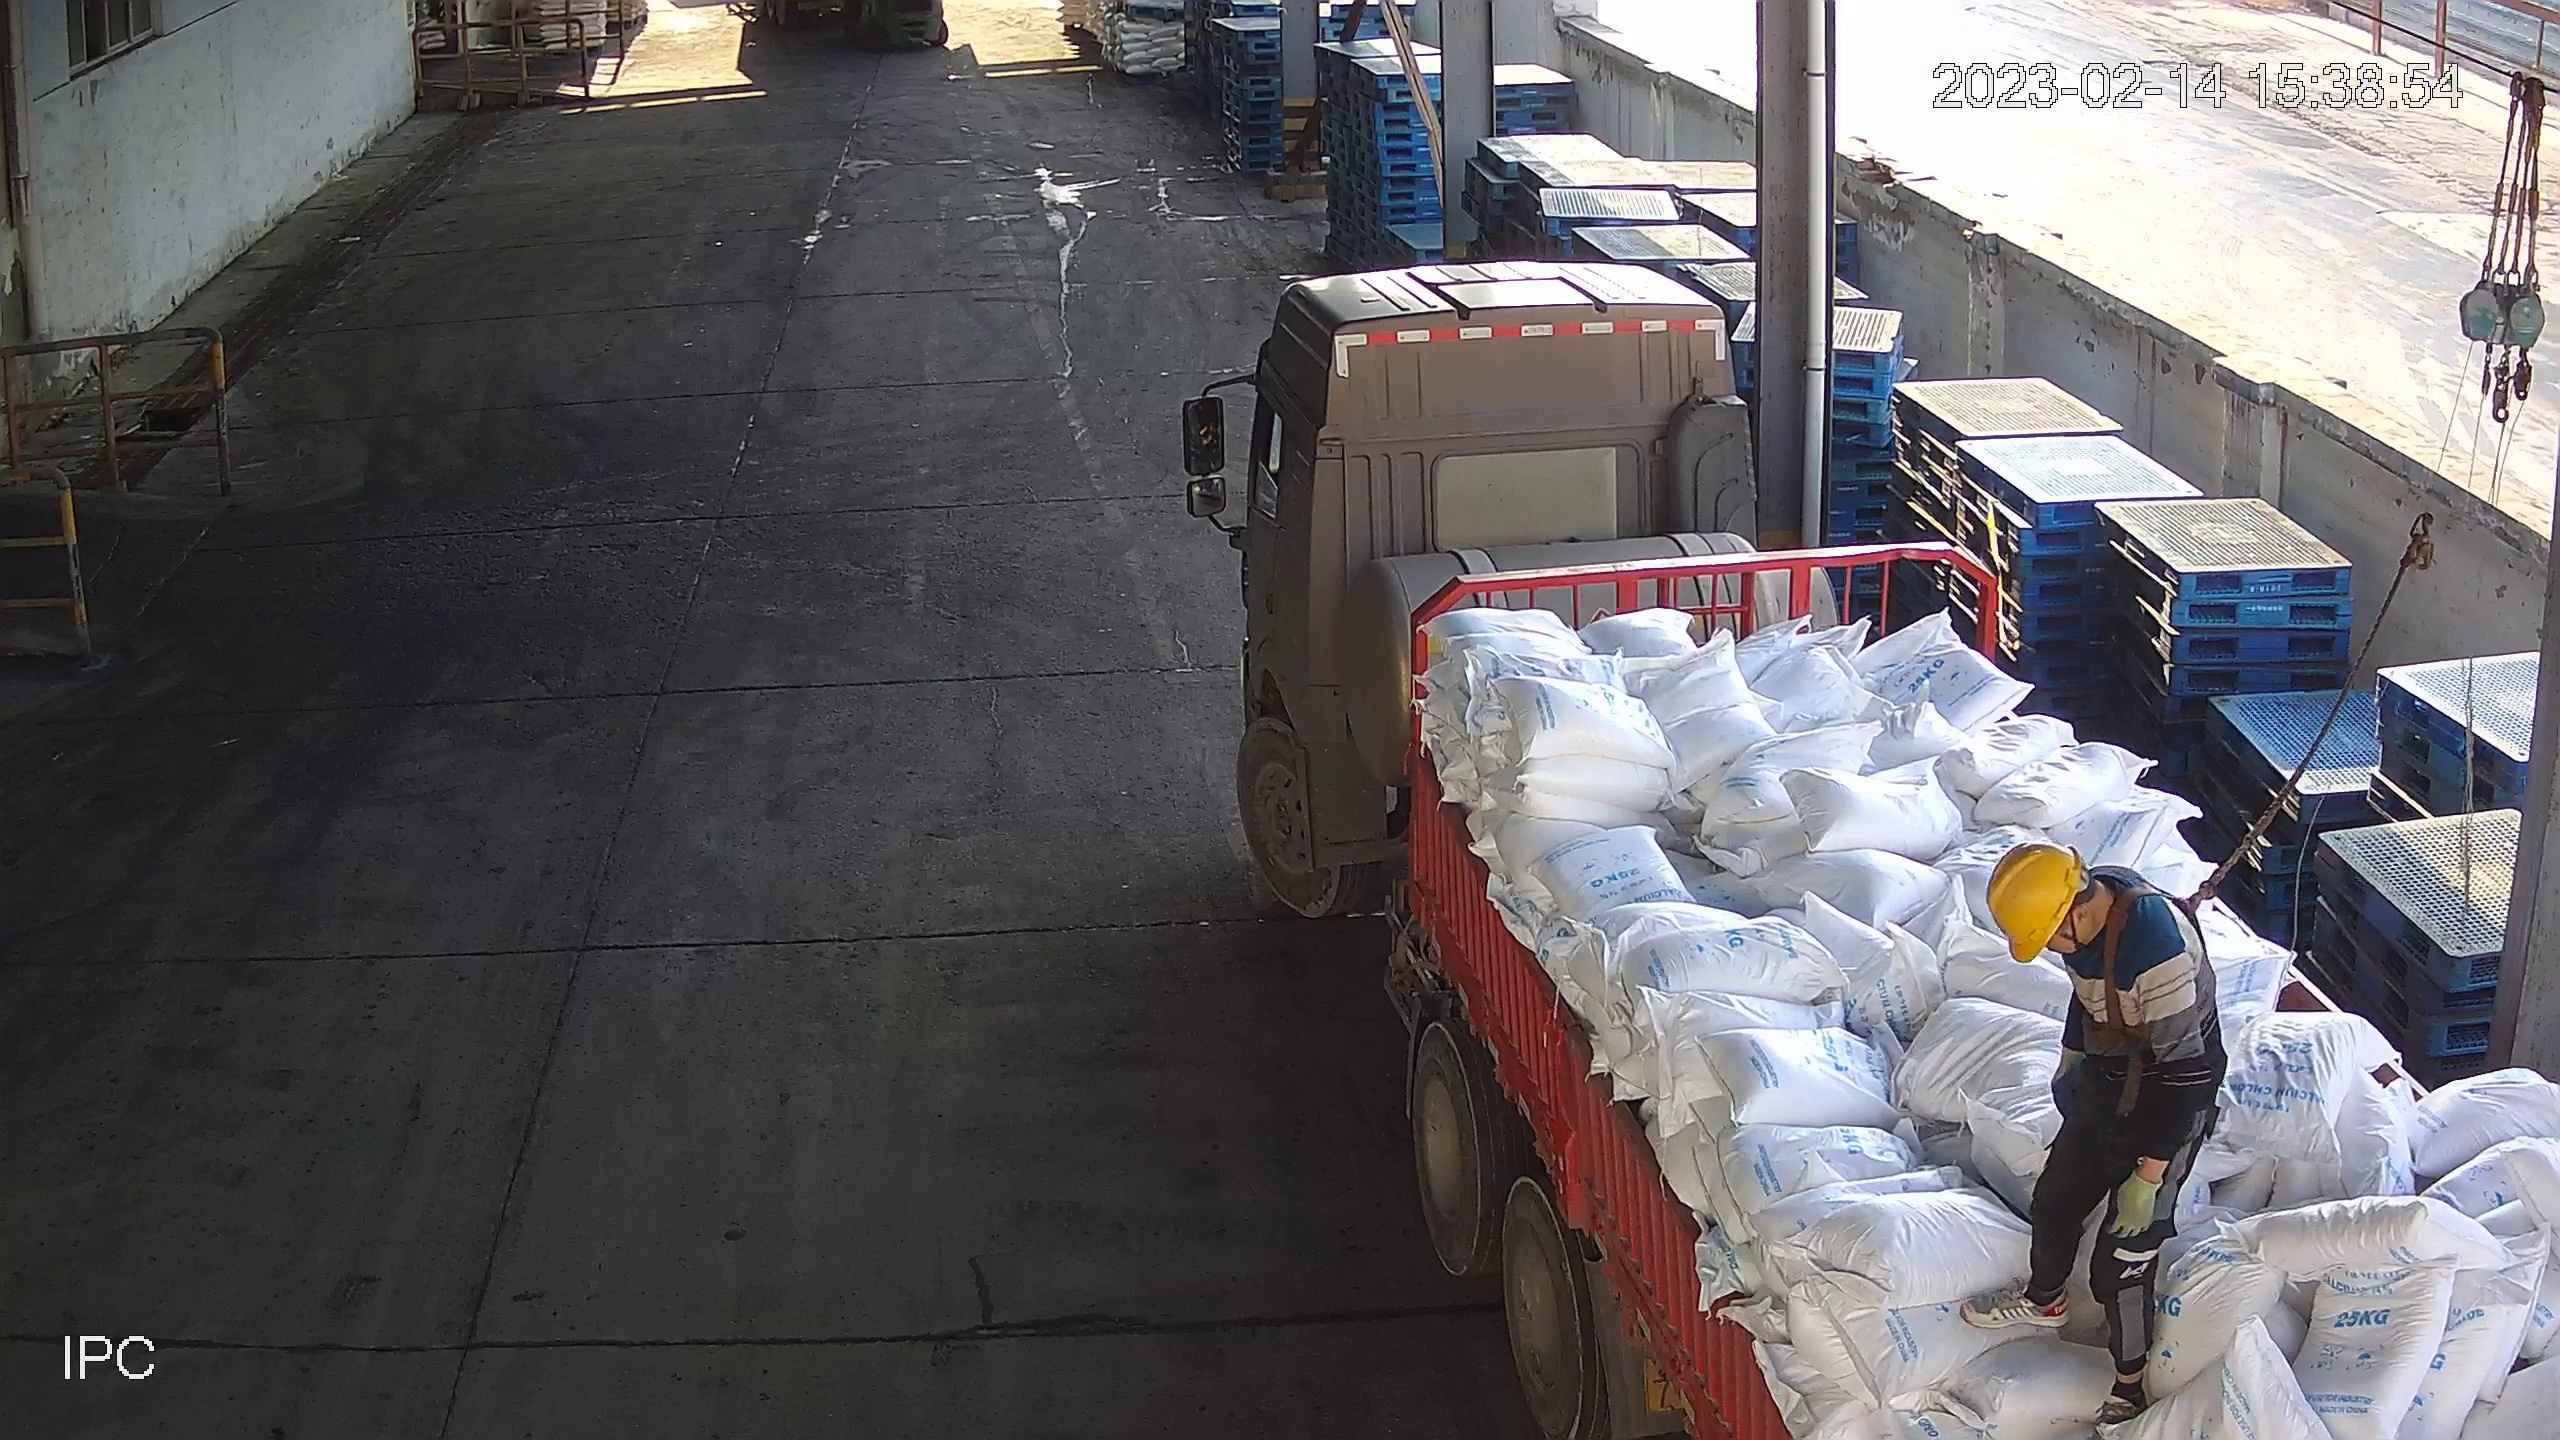belt: (2079, 893, 2174, 1065)
head: (1979, 845, 2158, 999)
helmet: (1983, 844, 2084, 965)
people: (1960, 841, 2220, 1440)
truck: (1174, 258, 2560, 1440)
